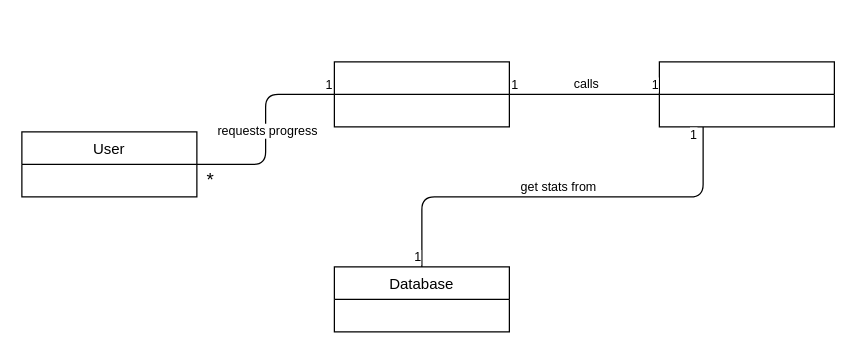
The diagram is 856 pixels wide and 354 high, and some of its shapes have lost their labels. The centre of each missing label's shape, as x and y in pixels:
API: the point at 746,94
UI: the point at 421,94
